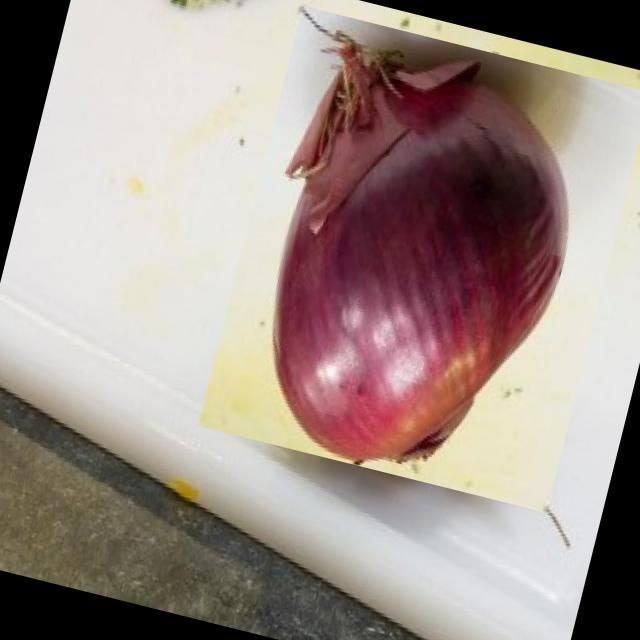Onion: (198, 4, 640, 512)
